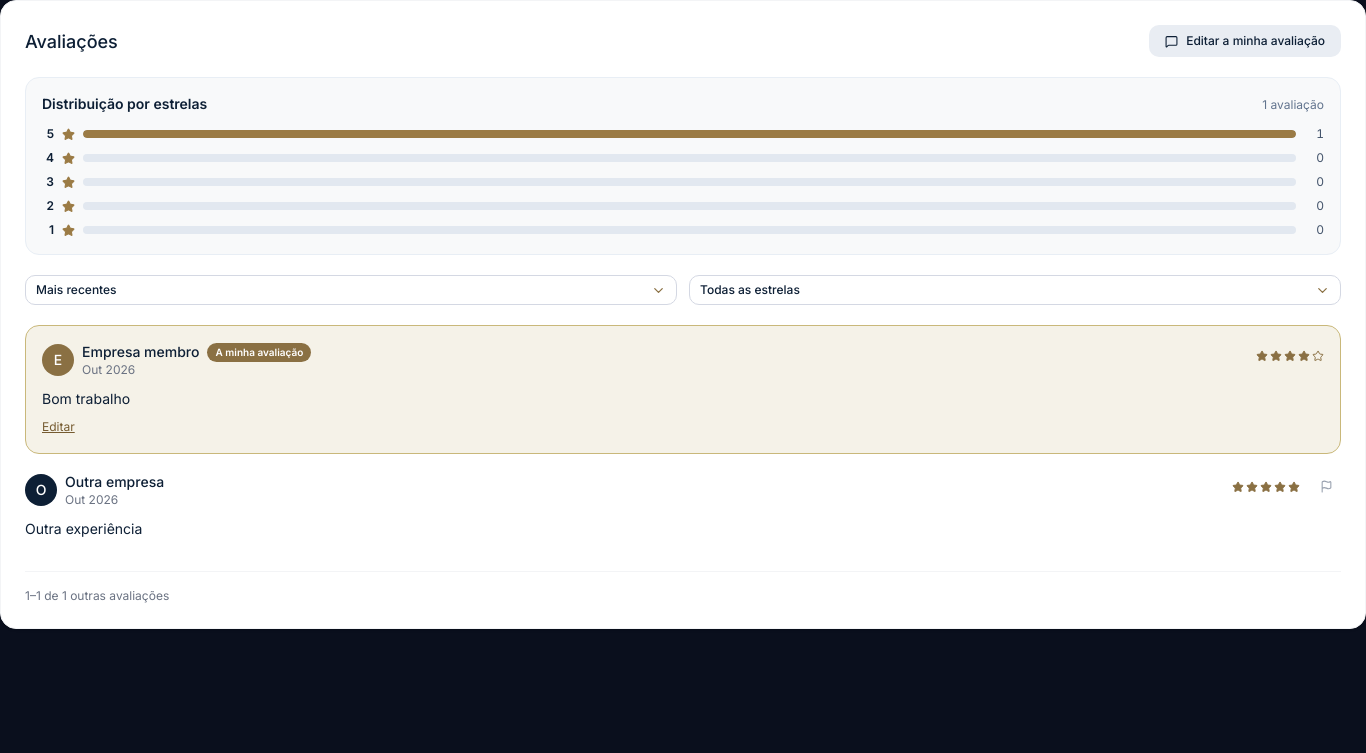
Test: Contador do comentário da avaliação › ao editar a minha avaliação começa no tamanho do comentário guardado
The width and height of the screenshot is (1366, 753).
Click the button "Editar a minha avaliação" at (1245, 41), box 1149,25 -> 1341,57
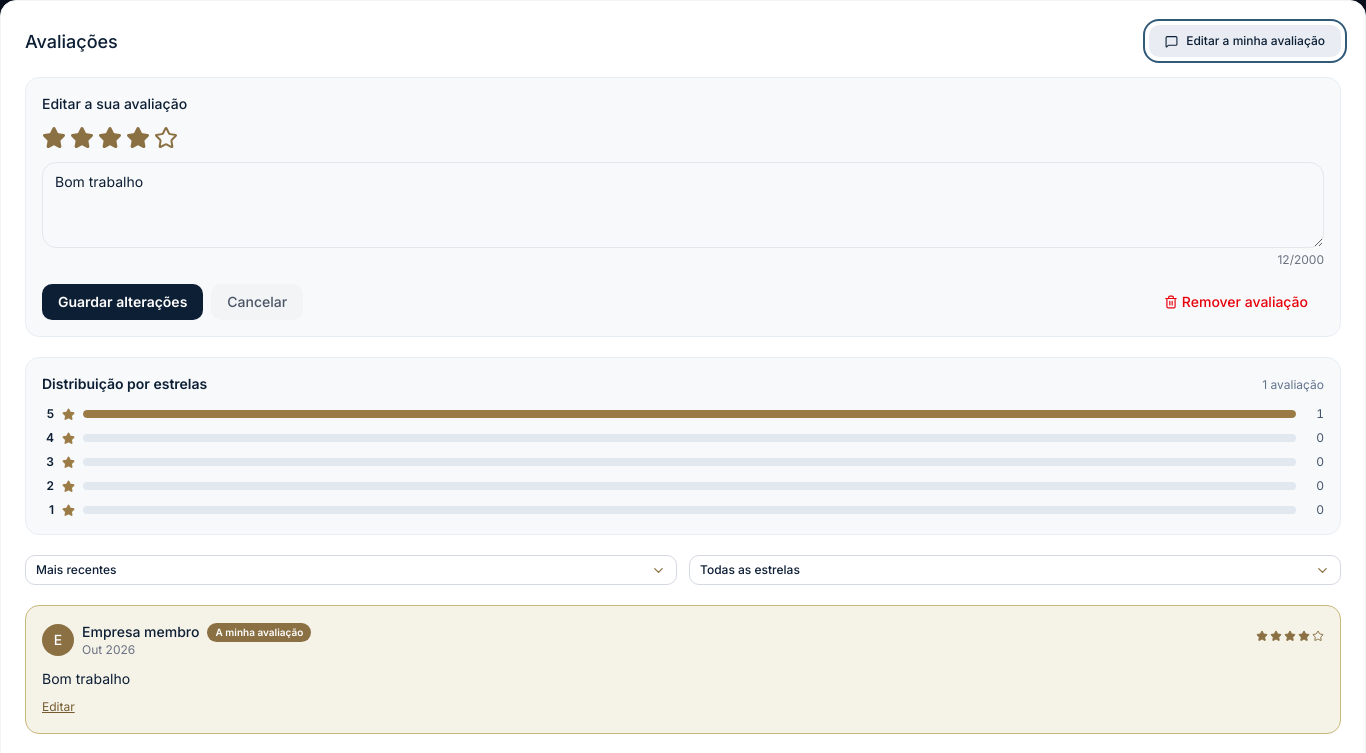
Result: the text box holds "Bom trabalho" at 42,162 -> 1324,248
Result: the text "12/2000" is shown at 1277,252 -> 1324,267
